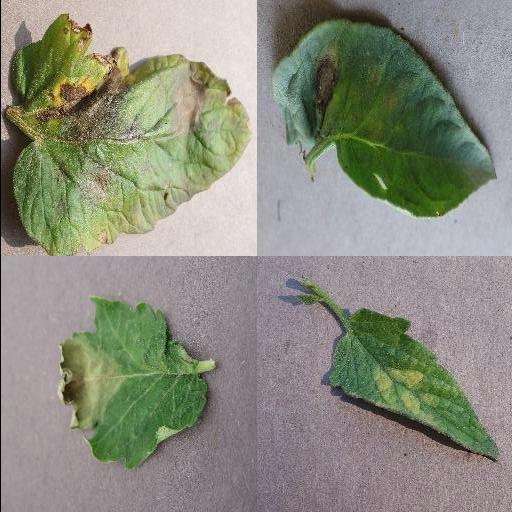Early Blight: (271, 18, 497, 216)
Late Blight: (12, 13, 251, 256), (56, 299, 206, 471)
Leaf Mold: (327, 310, 501, 462)
